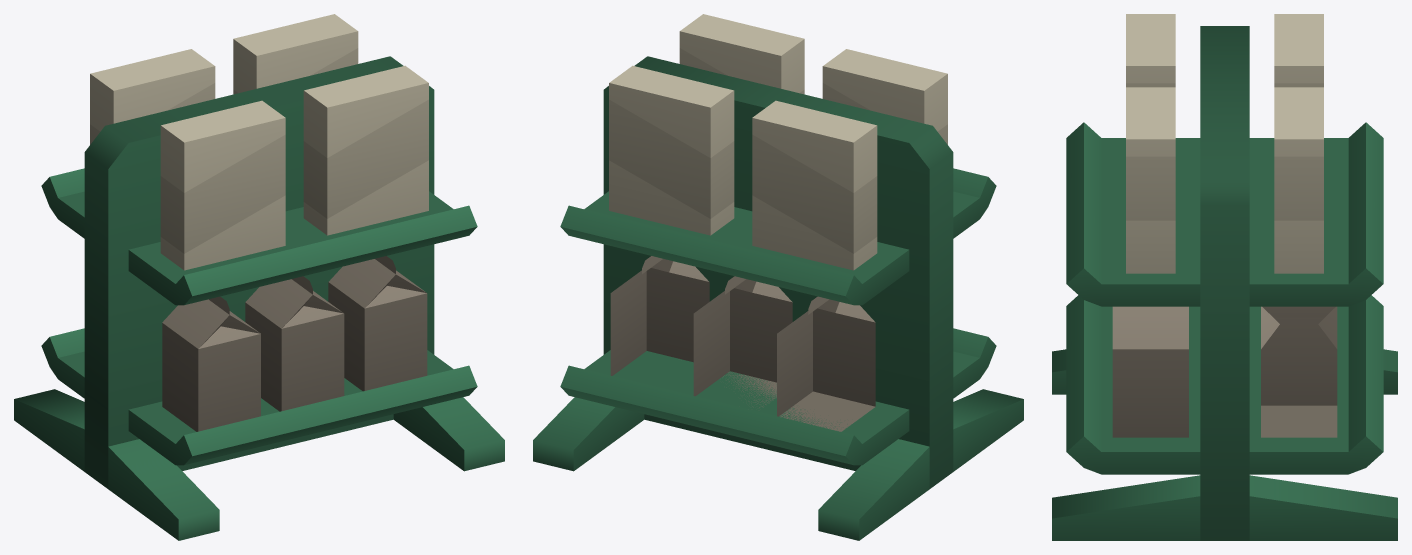
The model's file is shelf.glb.
3 renders of one model, left to right at view 1: azimuth 30°, elevation 25°; view 2: azimuth 150°, elevation 25°; view 3: azimuth 270°, elevation 25°, orthographic. The views are drawn at different scales.
Visible parts, largest first — view 1: shelf; view 2: shelf; view 3: shelf.
Part boxes in pixels (x1=…): shelf: x1=14, y1=14, x2=504, y2=540; shelf: x1=533, y1=14, x2=1023, y2=540; shelf: x1=1052, y1=14, x2=1397, y2=540.
Bounding box in the file's own units: 0.8 × 0.85 × 0.7.
